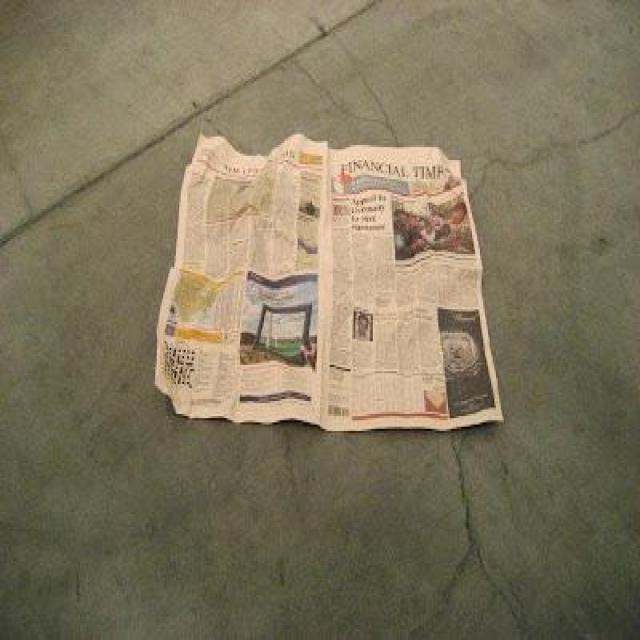paper: (152, 130, 504, 432)
